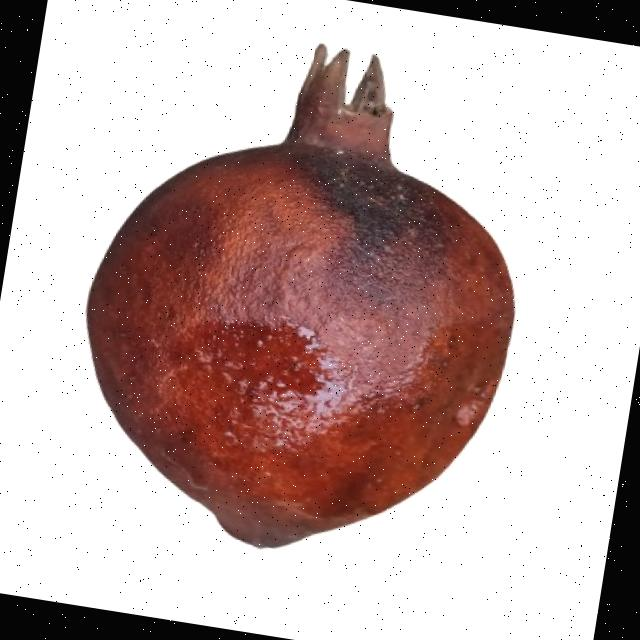Rotten: (51, 11, 558, 586)
